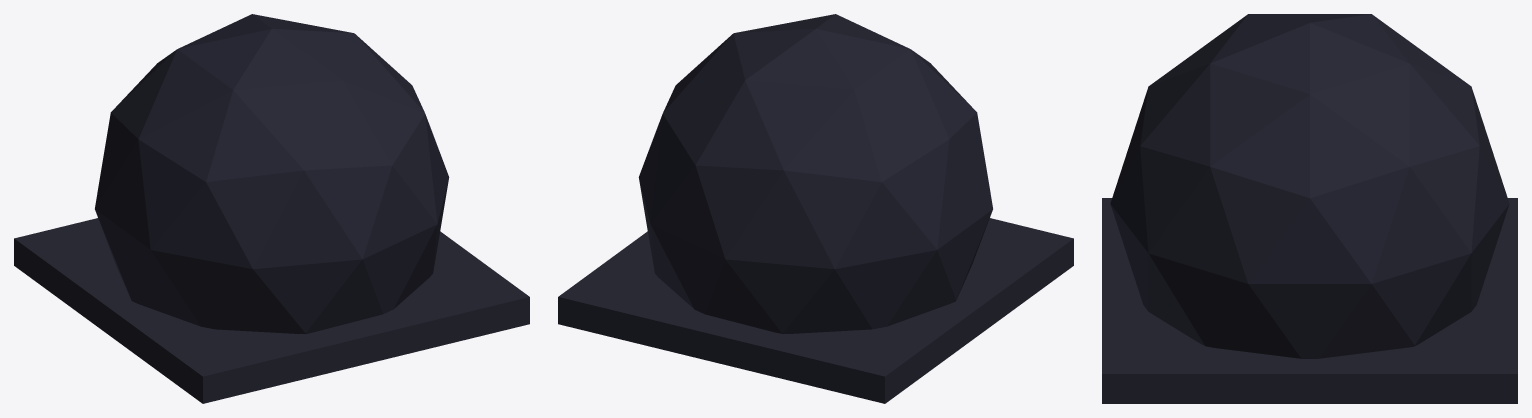
File: models_accum.obj
3 views of the same model, side by side, from view 1: azimuth 30°, elevation 25°; view 2: azimuth 150°, elevation 25°; view 3: azimuth 270°, elevation 25° (orthographic). The views are drawn at different scales.
Parts seen in each view (by area): view 1: Икосфера, Куб; view 2: Икосфера, Куб; view 3: Икосфера, Куб.
Part boxes in pixels (x1,y1,x2,y2): Икосфера: (95,14,449,334); Куб: (14,218,529,403); Икосфера: (638,14,992,334); Куб: (558,218,1073,403); Икосфера: (1110,14,1509,358); Куб: (1102,198,1517,403).
Bounding box in the file's own units: 1 × 0.96 × 1.
